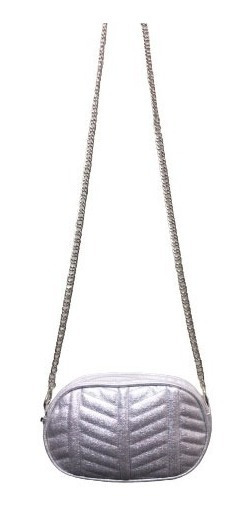cartera: (39, 23, 213, 483)
